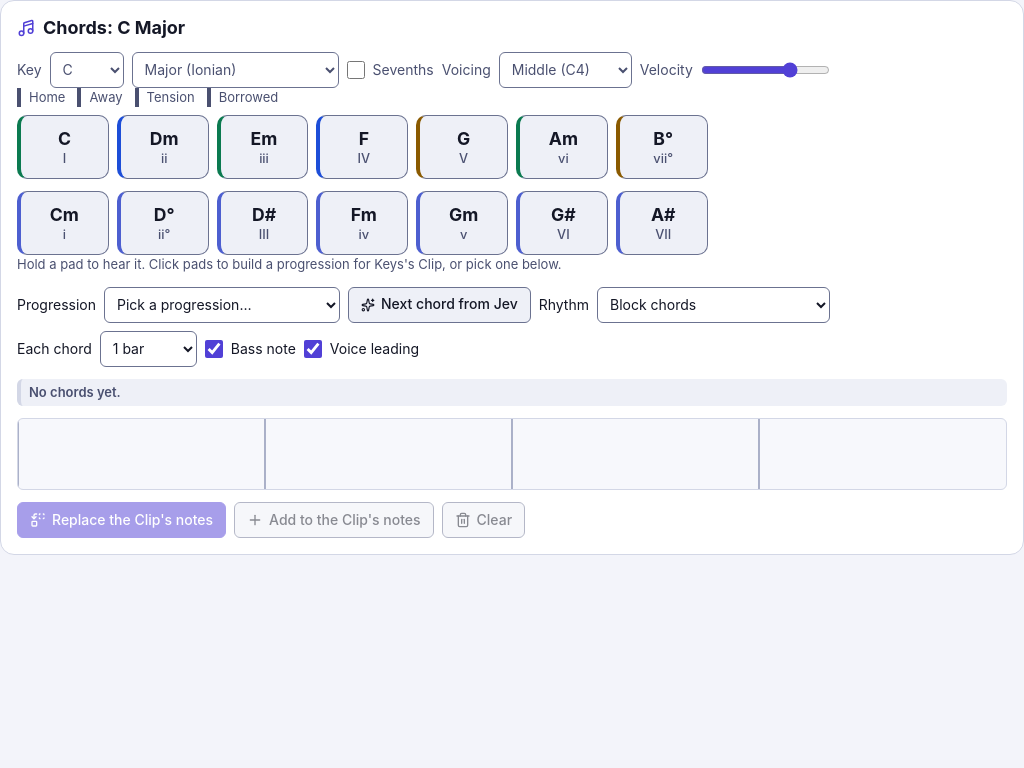
Test: with Jev set up, it picks the next chord of the progression from the pads
Click the button named "C, I". click: (63, 147)
box: [17,115,109,179]
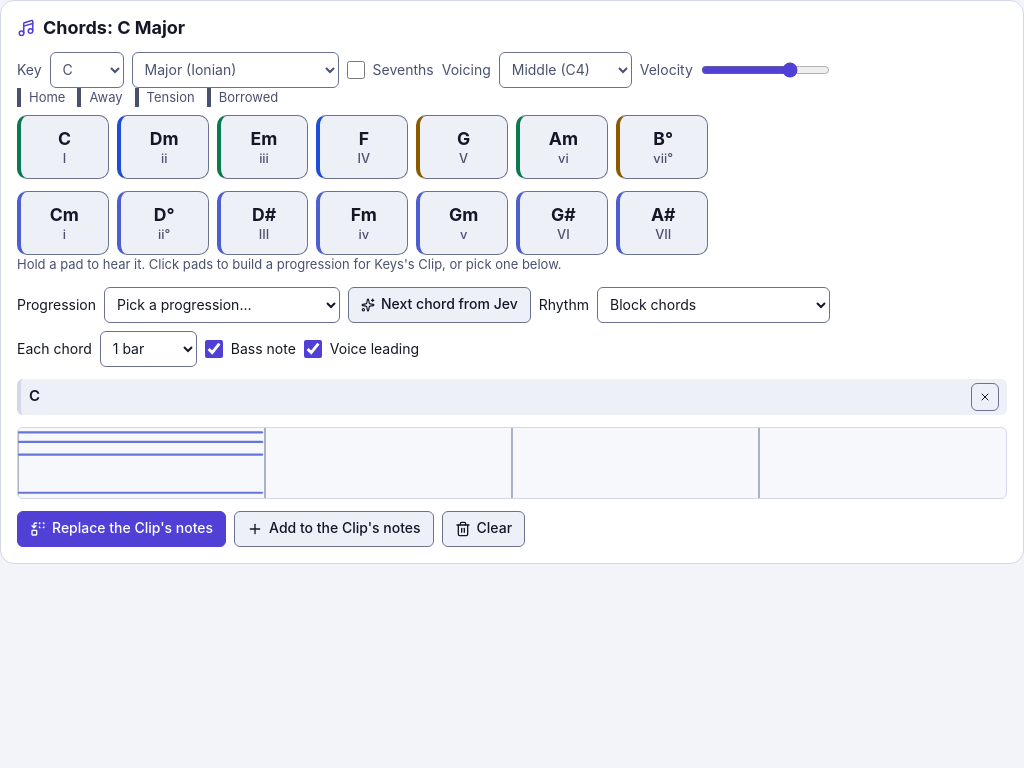
Click the button "Next chord from Jev". click: (439, 304)
box: [348,286,531,322]
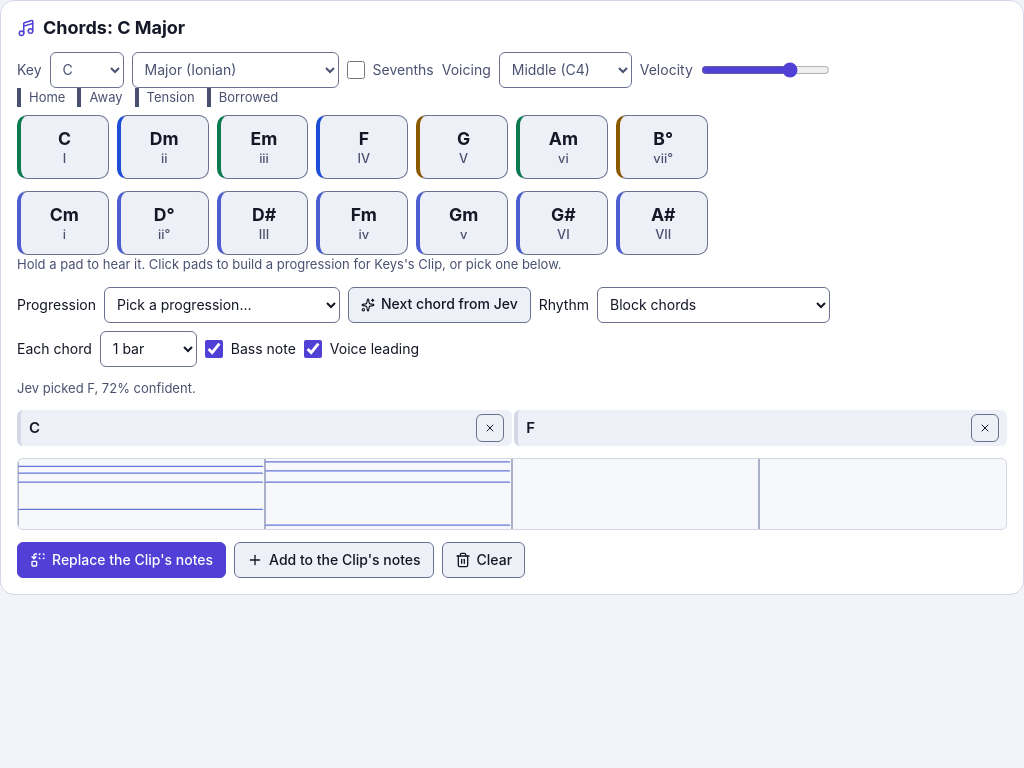
Result: the message reads "Jev picked F, 72% confident." at [17,380,196,396]
Result: the list items read "C", "F", in this order at [17,410,512,446]; [514,410,1007,446]
